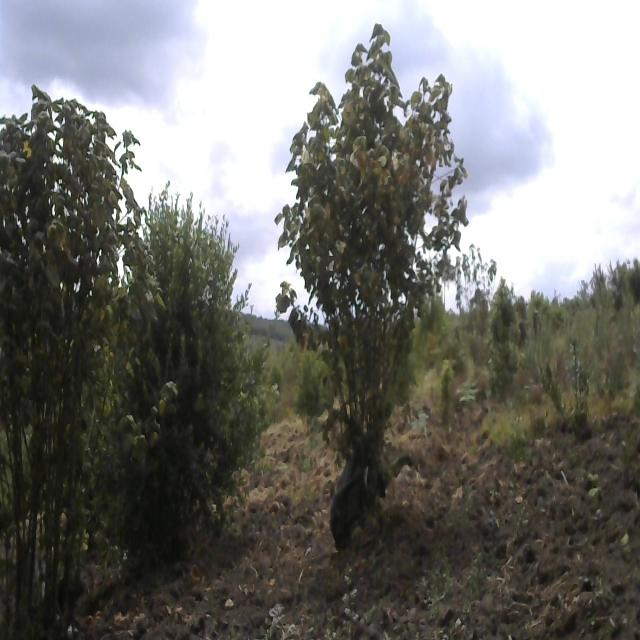Salix alba: (122, 182, 262, 536)
other: (279, 18, 455, 553), (3, 55, 136, 640)
